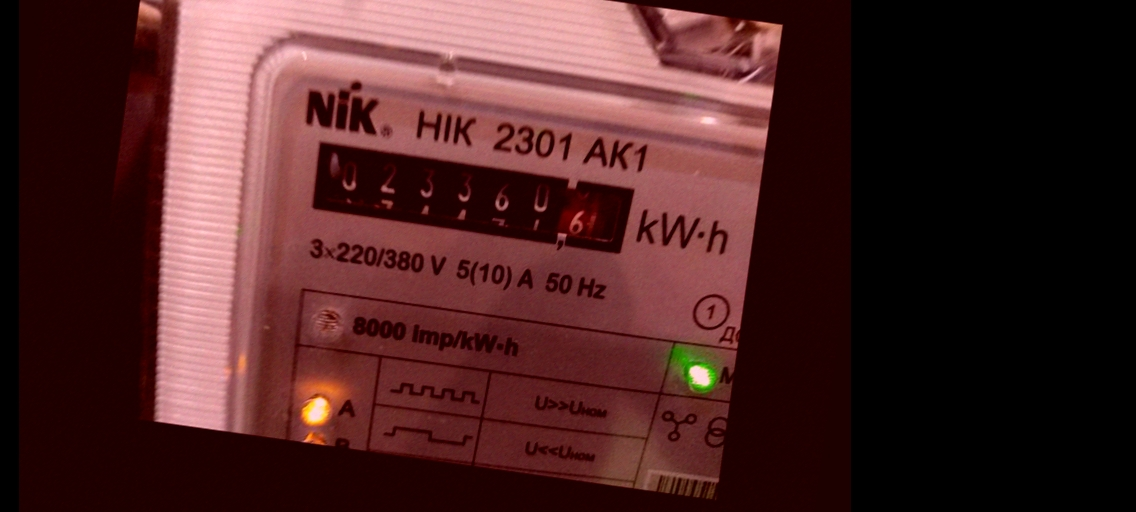0: (531, 178, 558, 216), (339, 156, 366, 193)
2: (379, 159, 405, 197)
3: (418, 165, 443, 202), (457, 169, 479, 205)
6: (493, 177, 518, 214), (568, 203, 591, 238)
screen: (297, 128, 658, 274)
